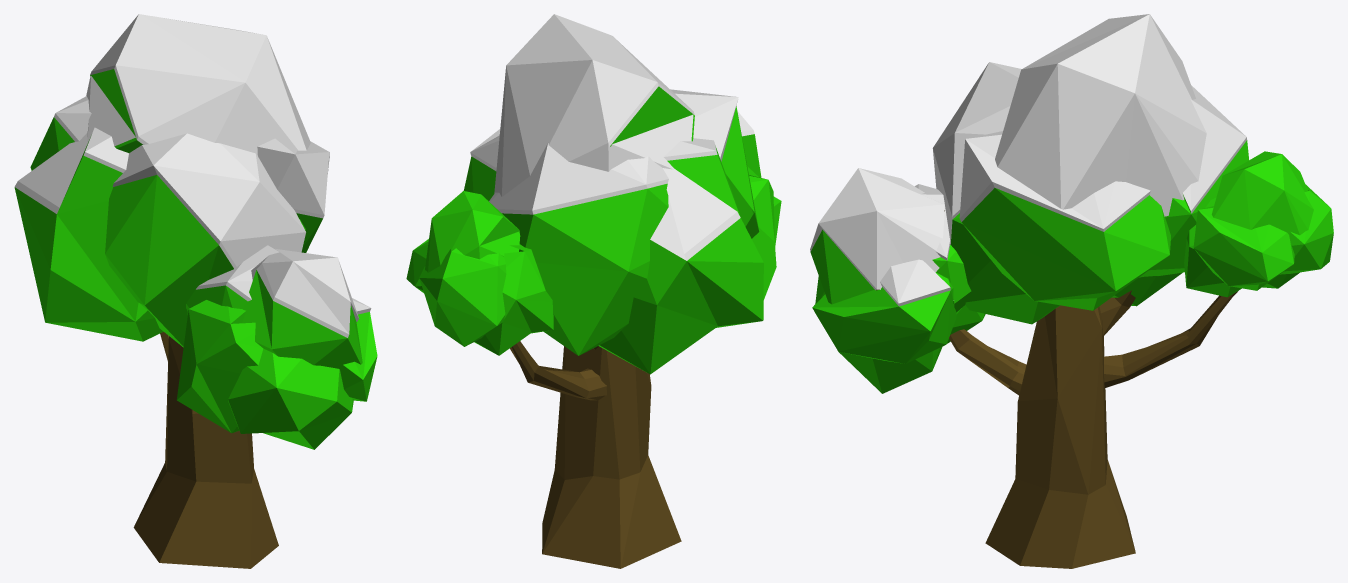
Rendered from Tree#5_Snow.fbx.
3 views of the same model, side by side, from view 1: azimuth 30°, elevation 25°; view 2: azimuth 150°, elevation 25°; view 3: azimuth 270°, elevation 25° (orthographic). The views are drawn at different scales.
Parts seen in each view (by area): view 1: Tree#5_Snow; view 2: Tree#5_Snow; view 3: Tree#5_Snow.
Part boxes in pixels (<box>): Tree#5_Snow: <box>14,14,377,568</box>; Tree#5_Snow: <box>406,14,781,568</box>; Tree#5_Snow: <box>810,14,1333,568</box>.
Size of the model in its own units: 651 by 1128 by 1042.
